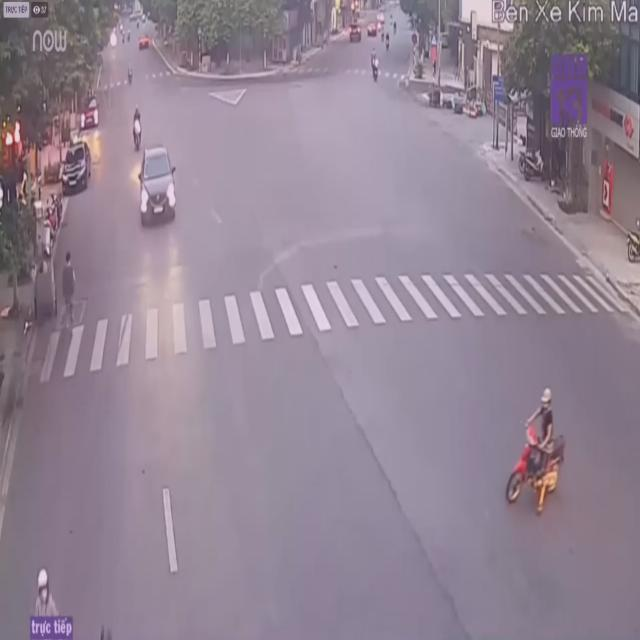car: (134, 144, 177, 228), (62, 140, 91, 193)
motorbike: (509, 385, 568, 513), (29, 566, 77, 639), (130, 104, 144, 151)
